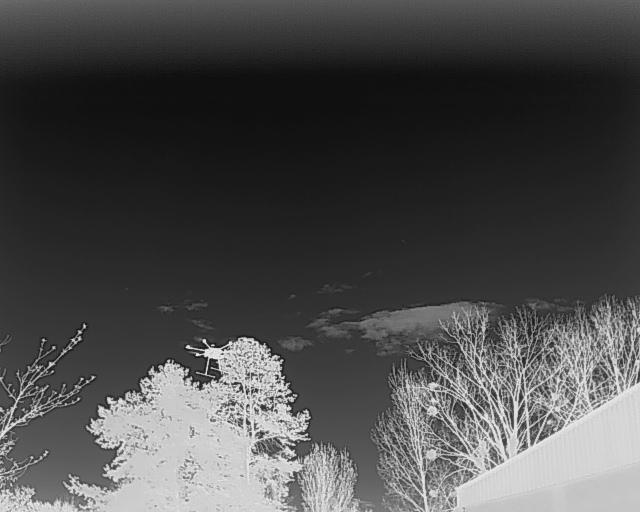drone: (179, 332, 246, 380)
